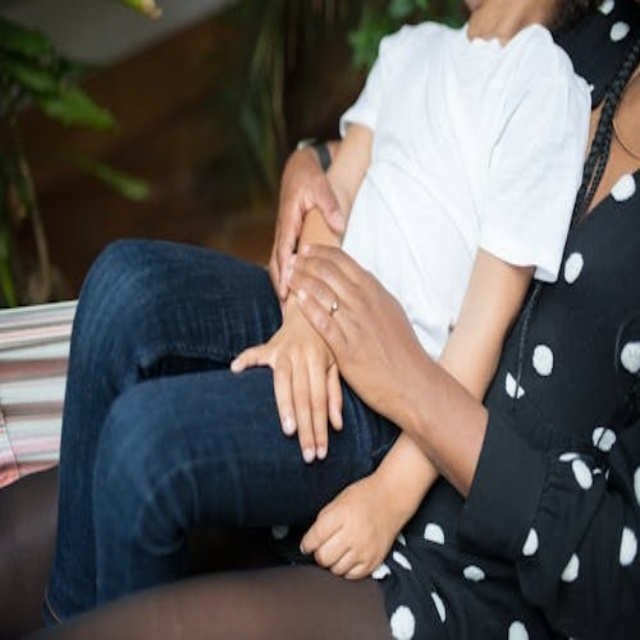Sin_guantes: (289, 220, 416, 404), (231, 295, 348, 462), (296, 477, 401, 600), (266, 128, 338, 289)
